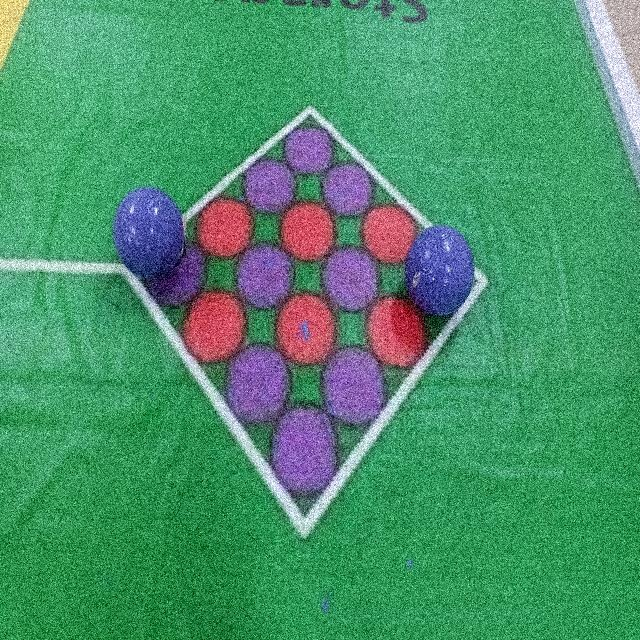purple_ball: (114, 186, 184, 280), (408, 224, 474, 318)
